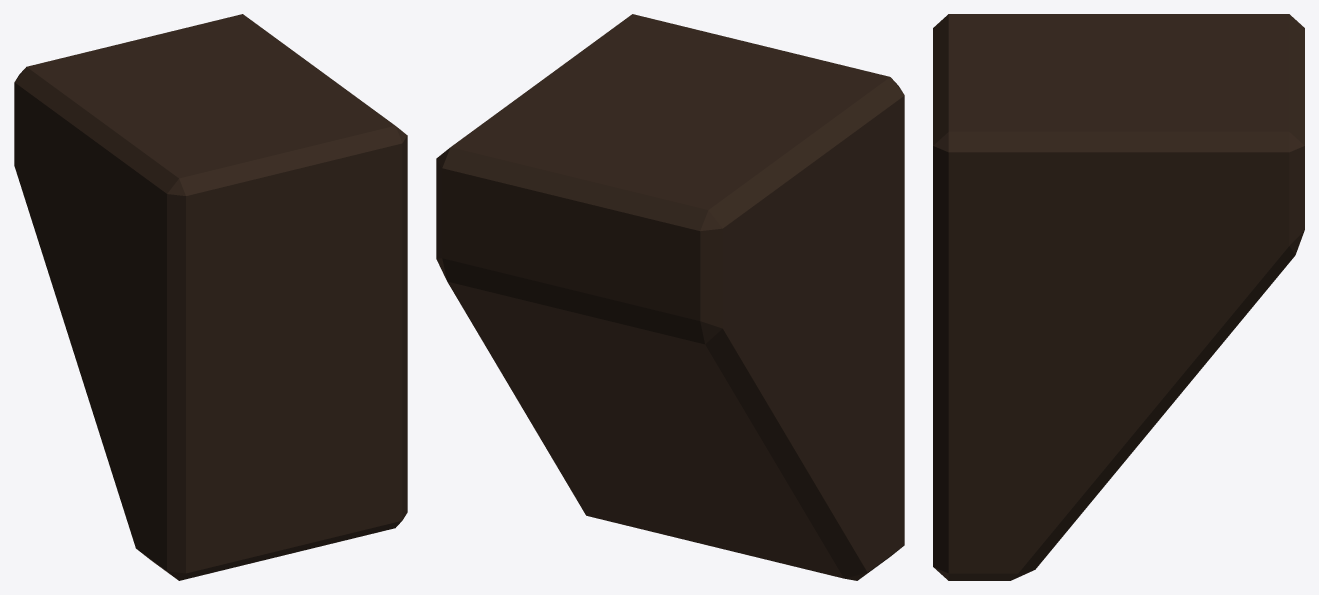
The model's file is corbel.fbx.
3 renders of one model, left to right at view 1: azimuth 30°, elevation 25°; view 2: azimuth 150°, elevation 25°; view 3: azimuth 270°, elevation 25°, orthographic. The views are drawn at different scales.
Visible parts, largest first — view 1: corbel; view 2: corbel; view 3: corbel.
Boxes of the visible parts, <box> form: corbel: <box>14,14,407,580</box>; corbel: <box>436,14,904,580</box>; corbel: <box>933,14,1304,580</box>.
Size of the model in its own units: 100 by 160 by 120.
